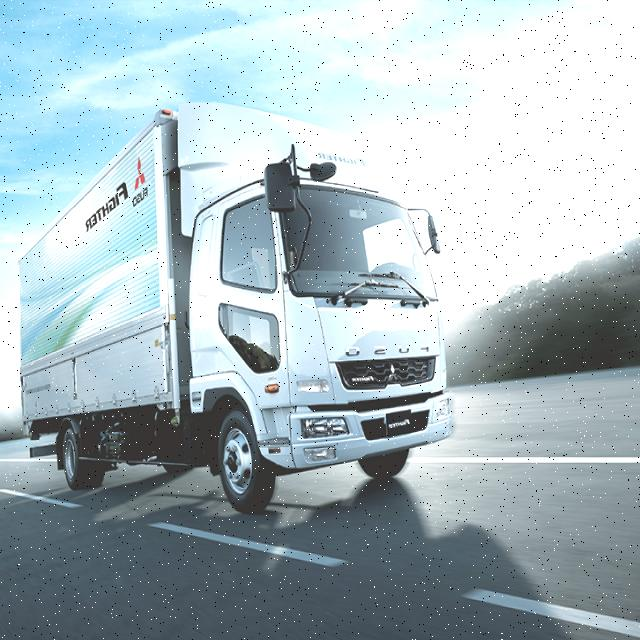truck: (22, 98, 458, 516)
